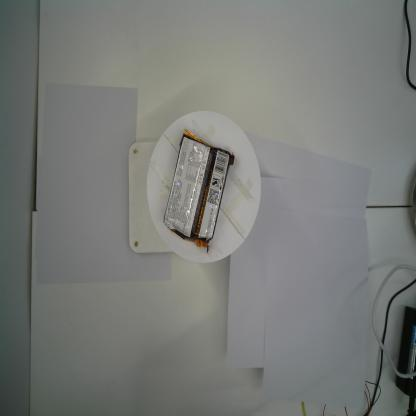Dessert: (162, 127, 236, 257)
